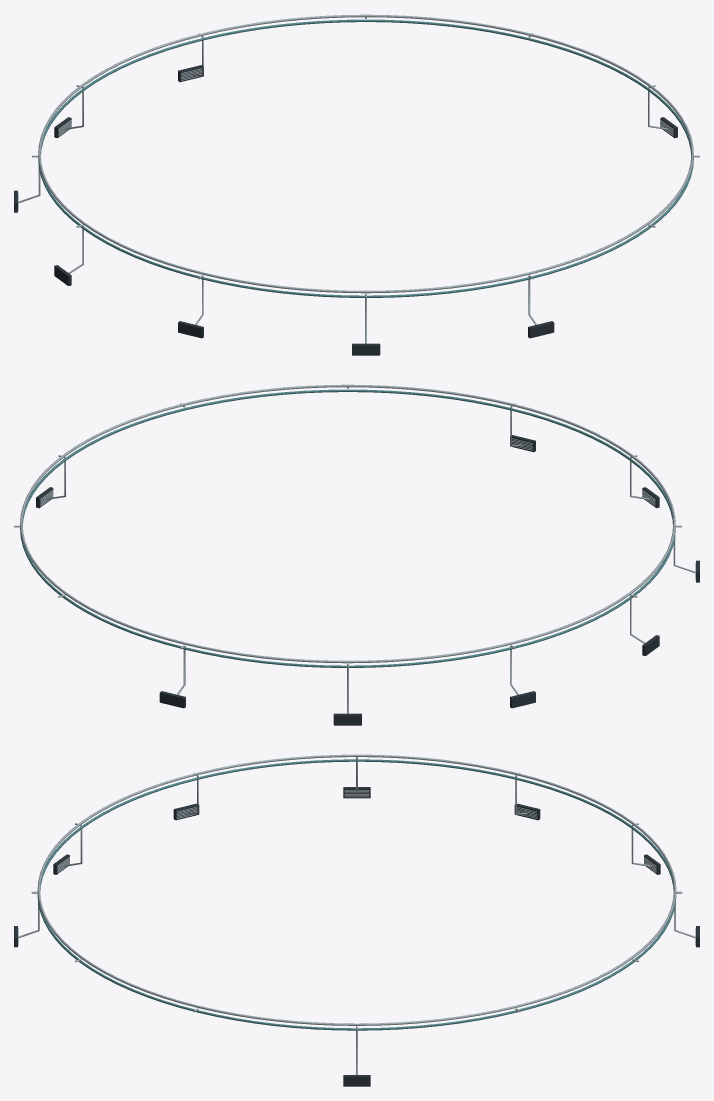
Rendered from RD_E02_Services.fbx.
3 renders of one model, top to bottom at view 1: azimuth 30°, elevation 25°; view 2: azimuth 150°, elevation 25°; view 3: azimuth 270°, elevation 25°, orthographic. The views are drawn at different scales.
Visible parts, largest first — view 1: RD_E02_Services; view 2: RD_E02_Services; view 3: RD_E02_Services.
Boxes of the visible parts, bbox=[...] form: RD_E02_Services: bbox=[14, 14, 699, 355]; RD_E02_Services: bbox=[14, 384, 699, 725]; RD_E02_Services: bbox=[14, 754, 699, 1086].
Size of the model in its own units: 1720 by 146 by 1720.
